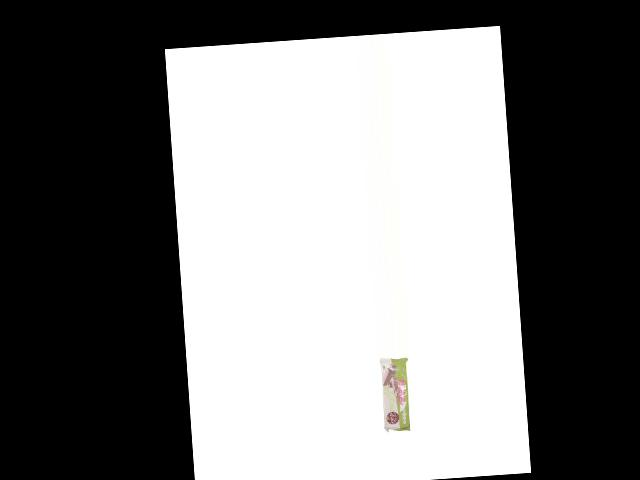chocolate: (376, 357, 412, 435)
